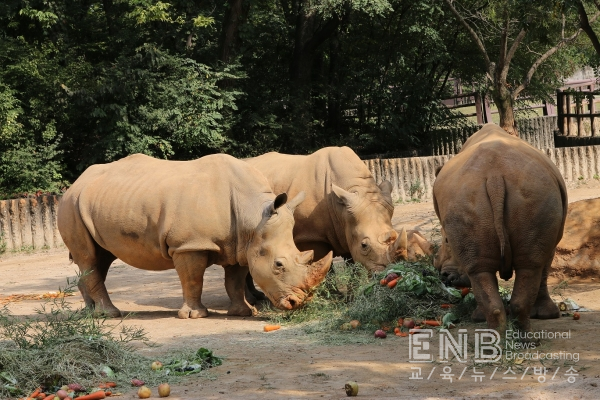Rhinoceros: (54, 151, 334, 320)
